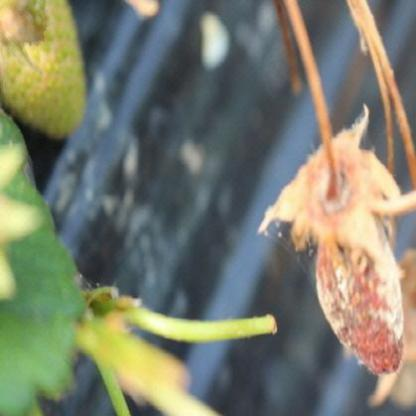Strawberry_Gray_Mold: (257, 102, 415, 375)
